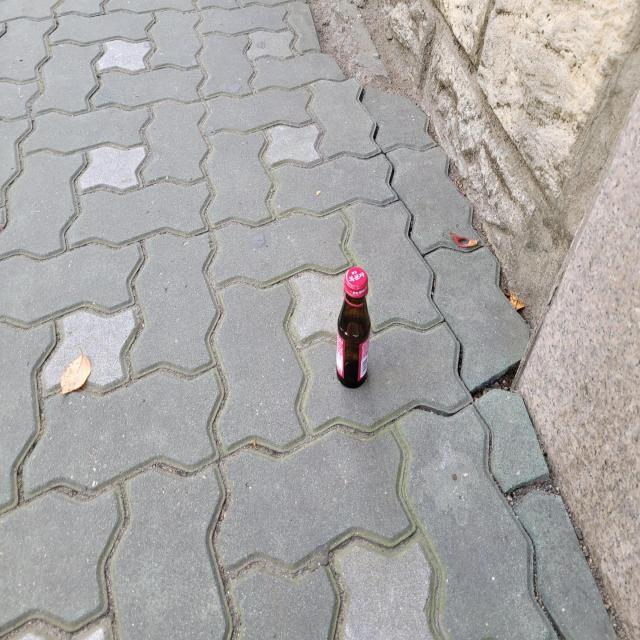glass: (336, 267, 371, 388)
